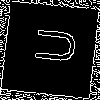U: (24, 24, 77, 66)
